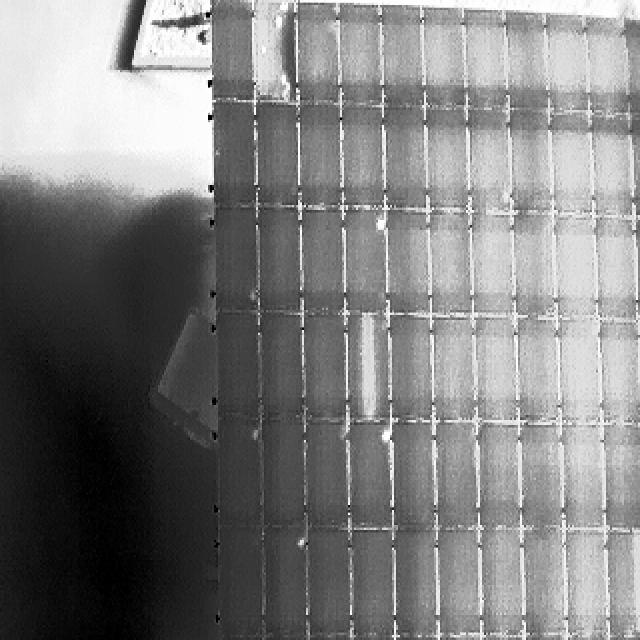Hotspots: (362, 211, 384, 236), (286, 532, 304, 556), (279, 72, 294, 100), (383, 424, 398, 448), (273, 14, 287, 31), (258, 40, 268, 55), (250, 429, 260, 441), (280, 2, 291, 11)
PV-modules: (546, 16, 616, 116), (308, 528, 359, 638), (441, 528, 490, 638), (218, 527, 266, 638), (438, 420, 487, 528), (212, 312, 260, 419), (394, 528, 441, 636), (218, 422, 264, 531), (252, 209, 298, 318), (346, 313, 392, 422), (506, 215, 553, 321), (254, 318, 300, 426), (211, 204, 257, 311), (478, 528, 523, 637), (346, 419, 391, 528), (339, 0, 386, 104), (381, 211, 426, 319), (393, 424, 438, 531), (306, 423, 351, 530), (538, 12, 586, 112), (210, 100, 256, 204), (430, 316, 475, 422), (264, 527, 308, 635), (299, 210, 343, 318), (305, 313, 349, 421), (513, 322, 557, 430), (589, 18, 636, 119), (262, 420, 305, 530), (208, 3, 254, 105), (377, 107, 422, 211), (476, 422, 520, 528), (348, 529, 392, 635), (470, 110, 514, 215), (296, 5, 341, 107), (300, 105, 344, 209), (426, 106, 470, 210), (426, 209, 470, 313), (522, 425, 565, 531), (344, 210, 387, 316), (556, 318, 598, 426), (472, 215, 516, 318), (592, 114, 636, 217), (565, 528, 607, 635), (524, 529, 566, 636), (392, 315, 434, 422), (422, 8, 466, 110), (560, 424, 602, 530), (476, 316, 518, 422), (511, 110, 554, 213), (382, 7, 425, 109), (554, 214, 596, 318), (551, 112, 593, 216), (342, 104, 384, 207), (505, 12, 548, 112), (256, 103, 298, 205), (601, 318, 640, 424), (598, 218, 638, 321), (466, 10, 507, 110), (254, 4, 294, 106), (604, 422, 640, 530), (605, 532, 640, 638), (262, 635, 308, 640), (566, 635, 608, 640), (216, 637, 262, 640), (478, 637, 524, 640), (440, 637, 484, 640), (310, 637, 354, 640), (396, 637, 440, 640), (526, 637, 570, 640), (350, 637, 394, 640)
